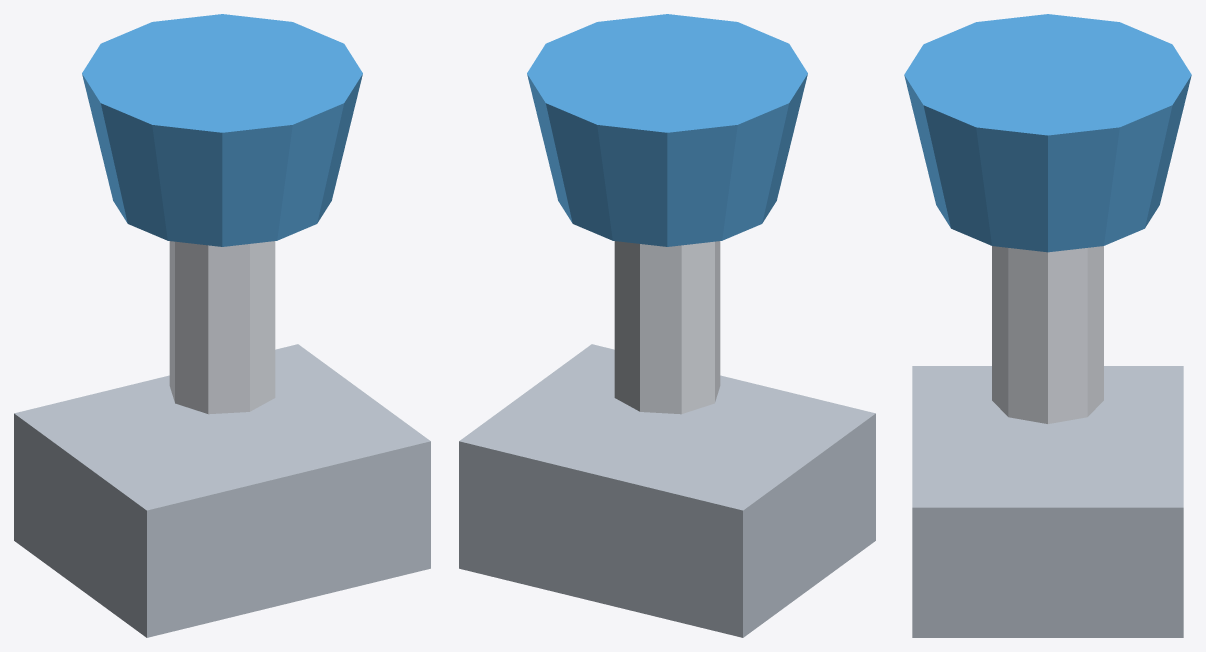
Rendered from station9_cnc_mill.glb.
3 views of the same model, side by side, from view 1: azimuth 30°, elevation 25°; view 2: azimuth 150°, elevation 25°; view 3: azimuth 270°, elevation 25° (orthographic). The views are drawn at different scales.
Parts seen in each view (by area): view 1: StationArtifact; view 2: StationArtifact; view 3: StationArtifact.
Part boxes in pixels (left/top/right/bottom): StationArtifact: left=14, top=14, right=430, bottom=637; StationArtifact: left=459, top=14, right=875, bottom=637; StationArtifact: left=904, top=14, right=1191, bottom=637.
Bounding box in the file's own units: 0.42 × 0.68 × 0.36.
